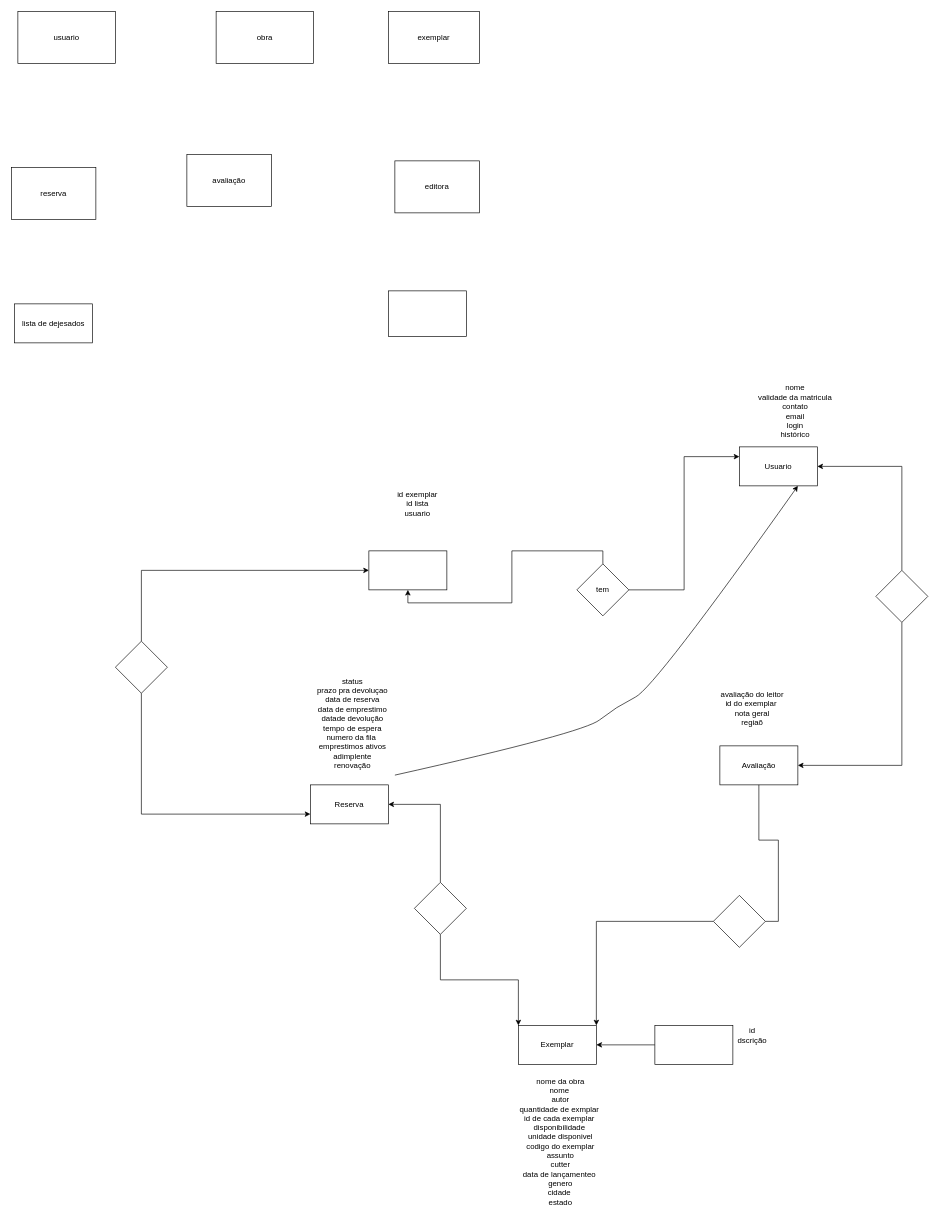
The diagram is 939 pixels wide and 1221 high, and some of its shapes have lost their labels. Each missing label, with the centre of its shape:
"gera" belongs at point 141,667.
"interesse" belongs at point 407,570.
"palavra chave" belongs at point 693,1044.
"recebe" belongs at point 739,921.
"retorna" belongs at point 901,596.
"utiliza" belongs at point 440,908.
